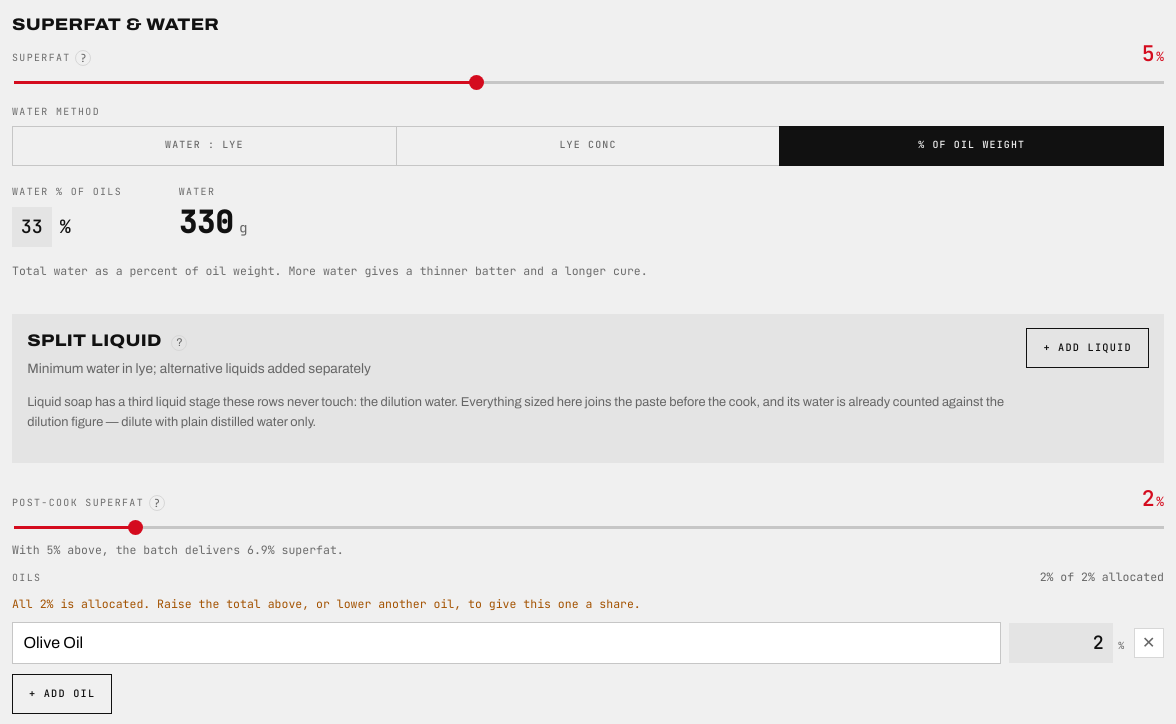
Test: the spent-budget notice clears as soon as there is headroom again
Expected: the text "All 2% is allocated" is shown, x1=12 y1=596 x2=641 y2=611
Replace the text in the number field named "Post-cook superfat % 1" with "1": (1061,643) x1=1009 y1=623 x2=1113 y2=663
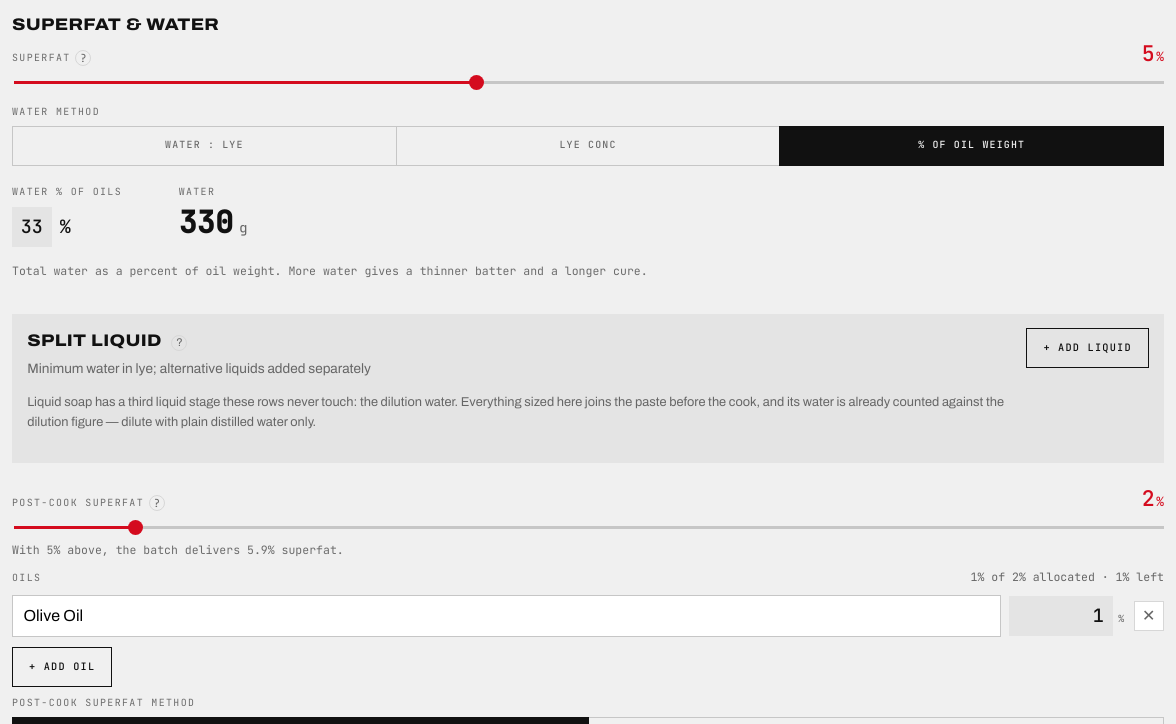
Expected: the text "is allocated" is gone
